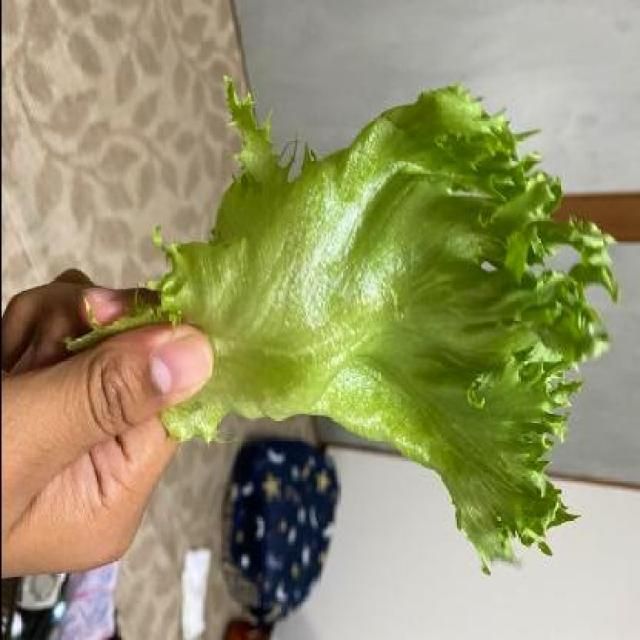Lettuce: (135, 73, 622, 571)
